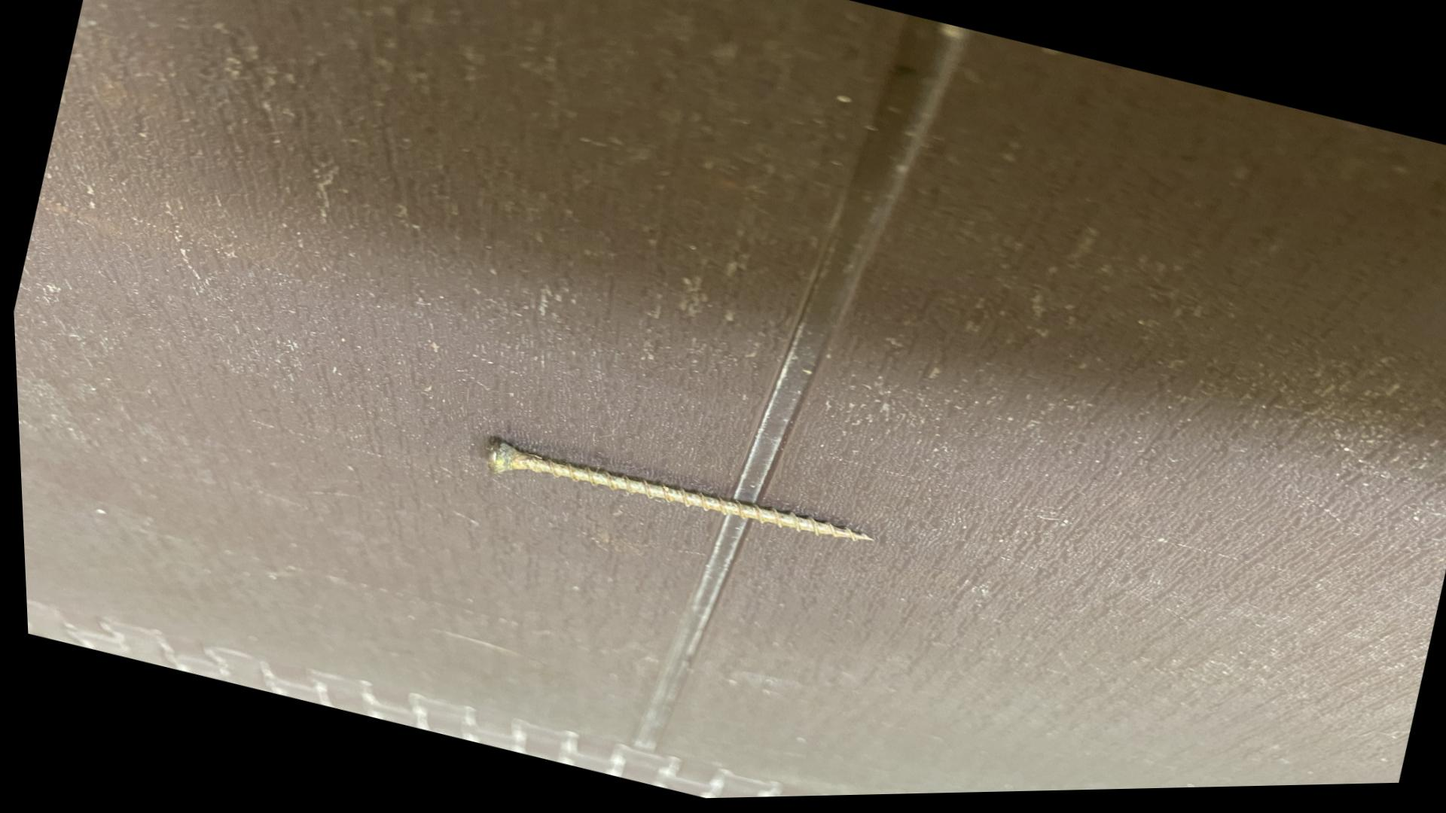screw: (415, 403, 918, 599)
